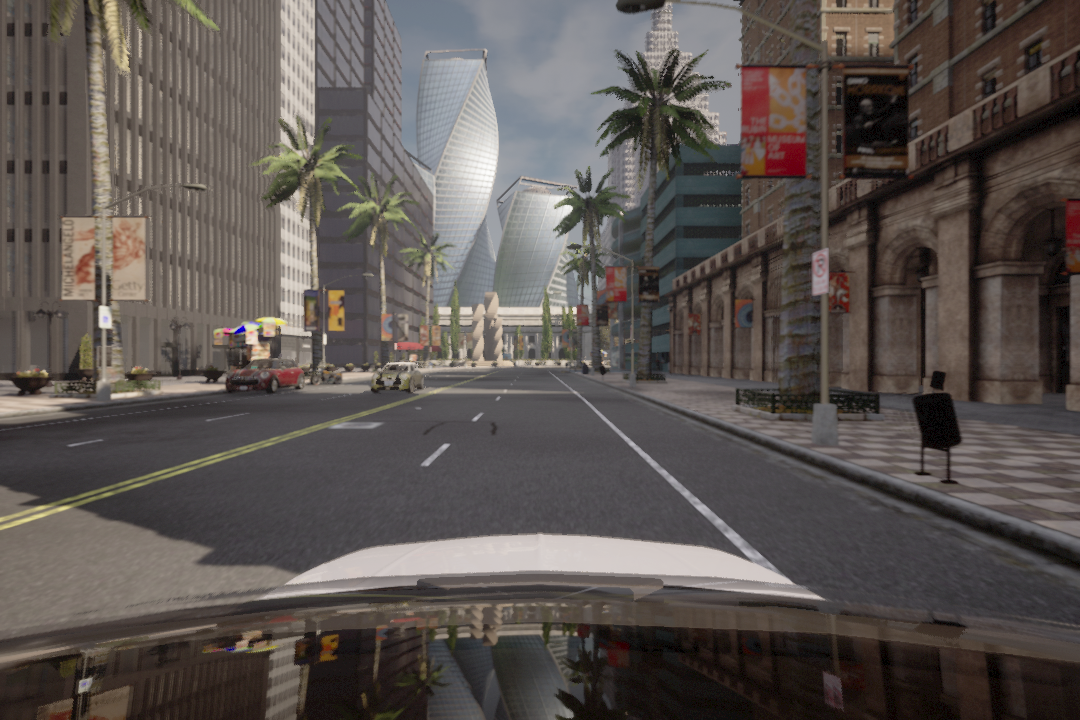TrafficSign_nstop: (812, 252, 830, 296)
